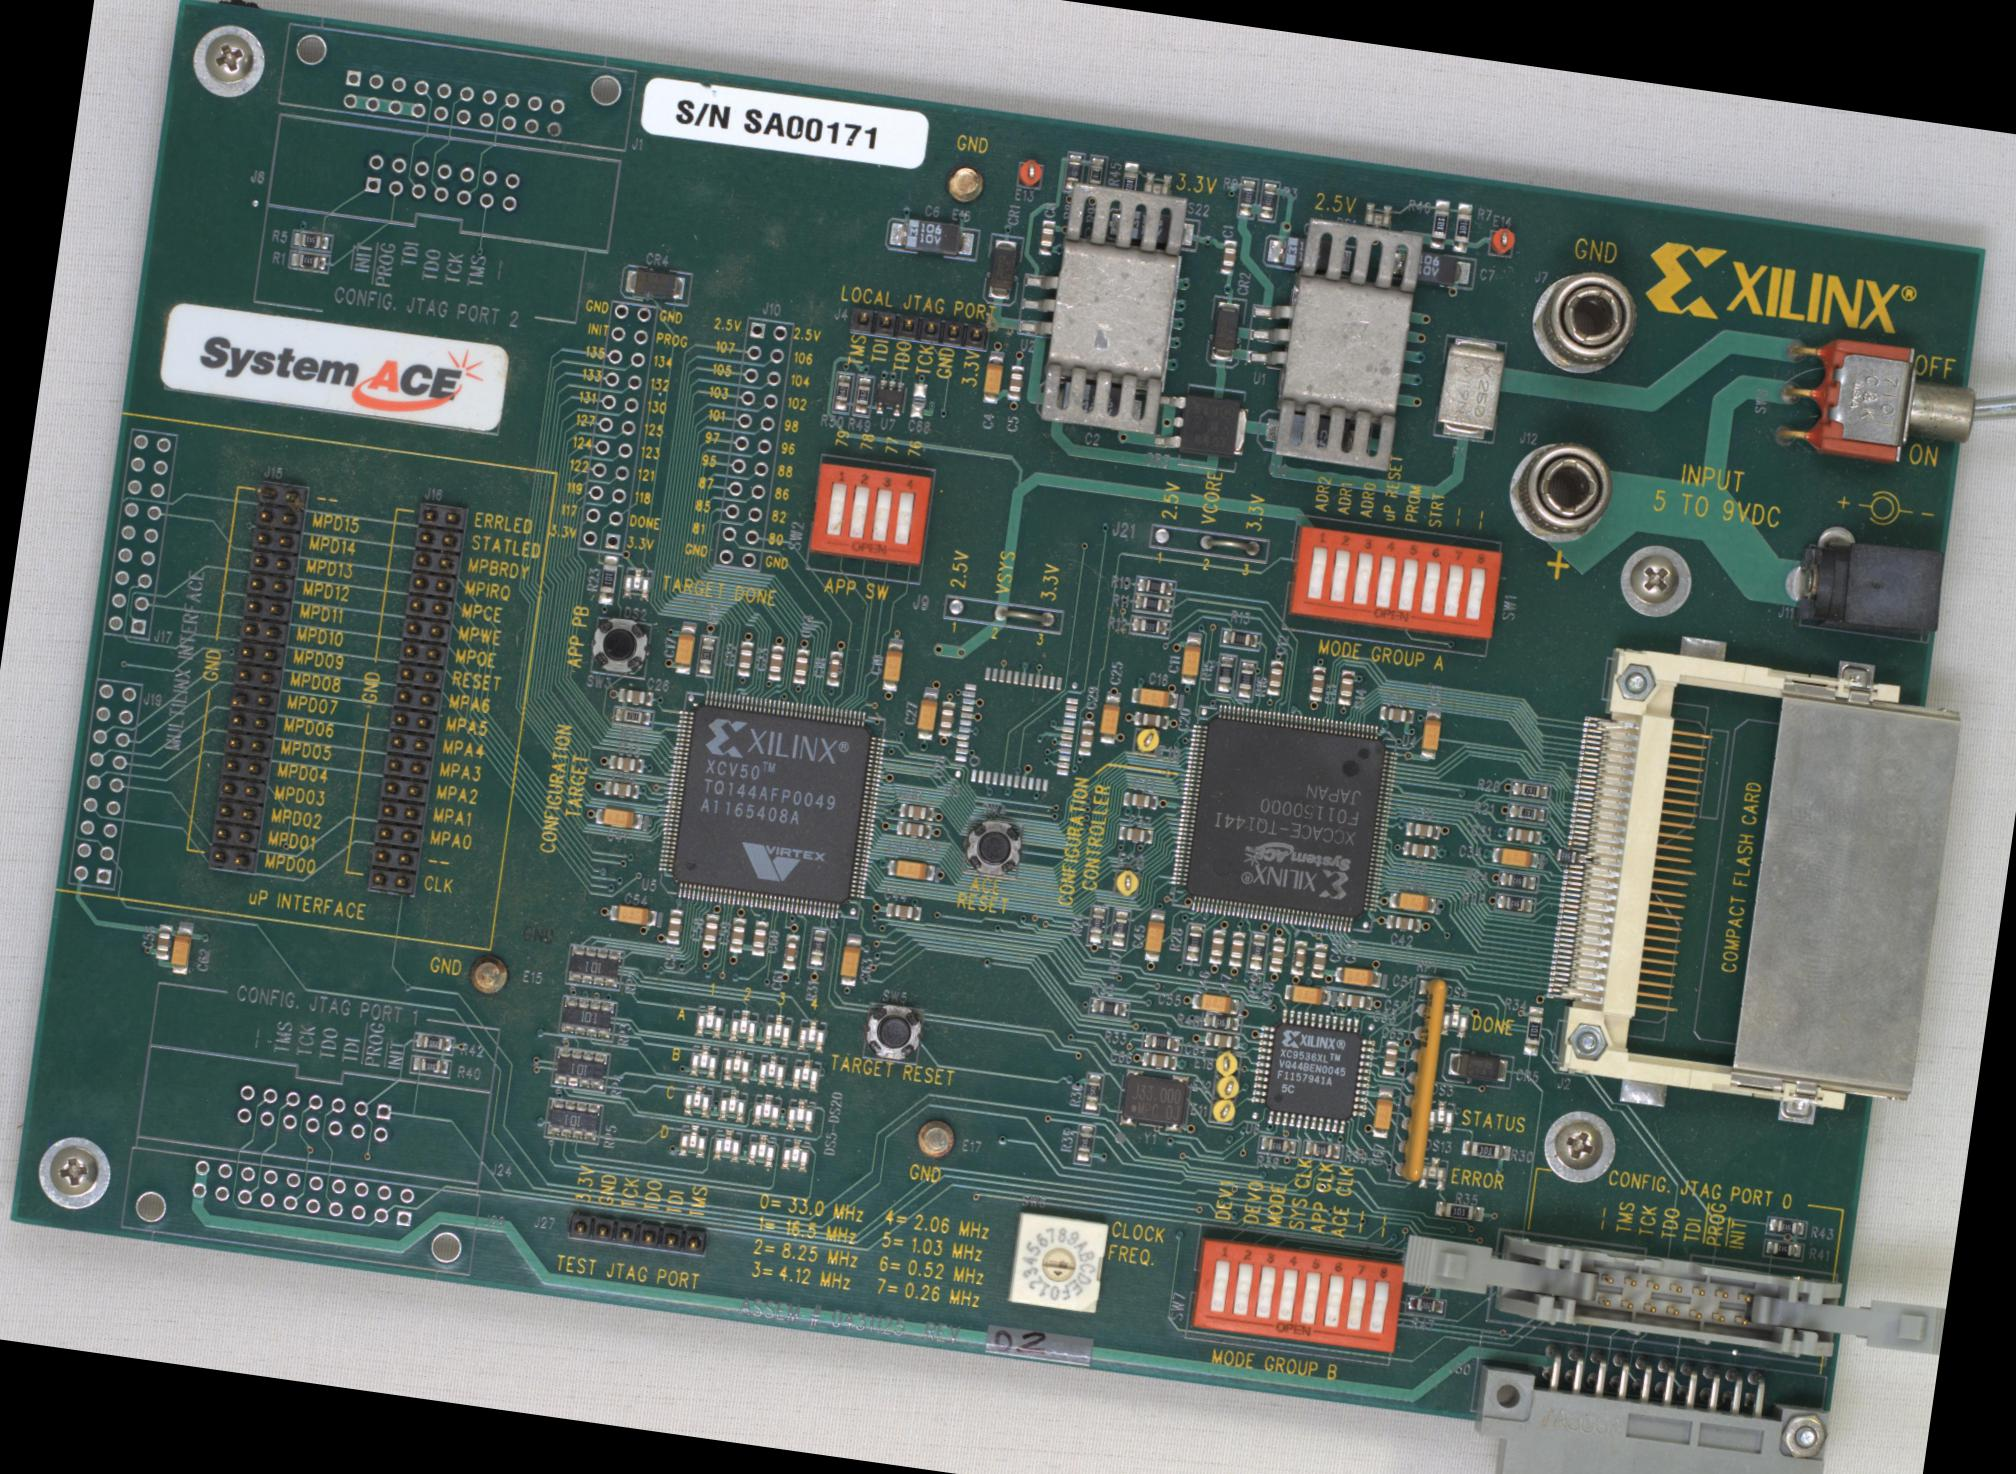Button: (587, 613, 653, 679), (859, 998, 925, 1064), (961, 817, 1024, 879)
Capacitor: (1401, 818, 1440, 840), (1399, 839, 1437, 861), (1202, 1030, 1240, 1052), (734, 640, 754, 679), (934, 698, 955, 737), (1075, 717, 1096, 756), (1305, 665, 1326, 703), (1132, 709, 1169, 729), (615, 687, 653, 707), (1116, 823, 1154, 843), (897, 801, 934, 821), (894, 818, 931, 839), (1205, 926, 1226, 964), (883, 900, 920, 920), (153, 923, 174, 961), (1218, 238, 1238, 275), (1036, 219, 1057, 257), (1265, 657, 1283, 696), (765, 643, 784, 682), (790, 646, 809, 685), (1227, 928, 1246, 967), (1288, 937, 1307, 976), (664, 906, 682, 945), (1379, 1037, 1398, 1077), (1138, 1050, 1177, 1069), (606, 753, 642, 773), (1266, 936, 1287, 972), (1335, 668, 1354, 706), (1376, 704, 1413, 723), (823, 648, 842, 685), (1504, 825, 1542, 843), (1121, 790, 1158, 809), (1309, 940, 1327, 978), (1335, 990, 1373, 1009), (700, 912, 718, 950), (726, 915, 745, 953), (750, 919, 769, 956), (779, 933, 798, 970), (603, 779, 639, 798), (1385, 914, 1421, 933), (1005, 365, 1024, 401)
Clock: (1118, 1067, 1188, 1133)
Connector: (1537, 615, 1983, 1138), (1396, 1214, 1947, 1379), (1463, 1328, 1839, 1472), (202, 479, 307, 872), (362, 502, 466, 895), (1791, 529, 1949, 648), (714, 319, 789, 568), (579, 300, 653, 551), (337, 67, 568, 139), (185, 1158, 413, 1230), (1521, 260, 1642, 379), (103, 430, 172, 637), (1499, 430, 1617, 549), (70, 682, 138, 886), (355, 144, 524, 214), (232, 1080, 396, 1142), (565, 1210, 707, 1256), (847, 305, 989, 352)
Electrolytic Capacitor: (1254, 407, 1373, 465), (1033, 377, 1143, 430), (1260, 232, 1352, 279), (886, 214, 977, 257), (1387, 247, 1476, 289), (615, 261, 692, 307), (1108, 207, 1196, 246), (980, 228, 1024, 307), (1443, 1048, 1509, 1088), (1208, 300, 1241, 363), (836, 931, 862, 987), (671, 618, 697, 676), (914, 684, 939, 742), (1179, 632, 1204, 688), (1097, 688, 1121, 745), (980, 349, 1003, 405), (1418, 704, 1442, 759), (880, 637, 903, 692), (167, 925, 193, 975), (1387, 889, 1435, 914), (1370, 1088, 1393, 1139), (592, 806, 642, 829), (884, 857, 934, 881), (1141, 912, 1165, 962), (1490, 845, 1539, 868), (1332, 964, 1381, 987), (607, 903, 656, 926), (1191, 990, 1238, 1014), (1129, 687, 1177, 709), (1282, 984, 1330, 1006)
IC: (653, 685, 889, 925), (1166, 699, 1399, 936), (1243, 269, 1437, 419), (1014, 233, 1194, 383), (952, 662, 1083, 793), (1246, 1005, 1377, 1136), (1431, 332, 1507, 446), (872, 379, 905, 416), (1141, 169, 1171, 196)
Jumper: (1191, 527, 1269, 562), (989, 599, 1061, 632)
Led: (620, 563, 653, 601), (692, 1003, 725, 1039), (787, 1056, 820, 1092), (720, 1047, 753, 1083), (715, 1088, 748, 1123), (681, 1083, 714, 1119), (743, 1133, 776, 1169), (778, 1138, 811, 1174), (1438, 1001, 1470, 1037), (728, 1008, 759, 1044), (761, 1012, 792, 1048), (795, 1017, 826, 1053), (687, 1042, 718, 1078), (754, 1052, 786, 1088), (750, 1092, 781, 1128), (783, 1097, 814, 1133), (676, 1123, 707, 1159), (711, 1128, 742, 1164), (1426, 1098, 1454, 1136), (1420, 1156, 1448, 1191), (1362, 202, 1391, 230)
Pads: (939, 593, 969, 620), (1146, 523, 1174, 549), (909, 380, 928, 418)
Potentiometer: (1005, 1210, 1110, 1313)
Resistor Jumper: (565, 944, 623, 989), (551, 1045, 607, 1091), (543, 1097, 599, 1142), (557, 995, 615, 1039)
Resistor Network: (595, 552, 618, 607), (1449, 200, 1473, 253), (1521, 1003, 1543, 1056), (1459, 1139, 1510, 1161), (1427, 199, 1449, 250), (1432, 1200, 1482, 1222), (1258, 1134, 1302, 1158), (1133, 576, 1172, 598), (1132, 591, 1171, 613), (1129, 615, 1168, 635), (1183, 923, 1204, 962), (1201, 1011, 1240, 1031), (1404, 1294, 1443, 1314), (291, 230, 330, 250), (1235, 659, 1254, 699), (1143, 1033, 1180, 1053), (1302, 1139, 1340, 1159), (1767, 1216, 1805, 1236), (410, 1055, 448, 1075), (1215, 654, 1233, 693), (1509, 781, 1548, 800), (1506, 803, 1545, 821), (1496, 870, 1535, 889), (1088, 904, 1107, 944), (1246, 931, 1265, 970), (1088, 998, 1127, 1017), (1074, 1123, 1093, 1163), (1063, 152, 1082, 191), (1237, 177, 1255, 216), (288, 252, 327, 271), (1218, 629, 1255, 648), (614, 707, 651, 726), (1495, 892, 1532, 911), (808, 928, 826, 965), (413, 1033, 451, 1052), (1762, 1239, 1800, 1258), (1110, 908, 1127, 947), (697, 637, 714, 674), (1083, 1073, 1100, 1111), (1258, 182, 1276, 219), (833, 372, 850, 410), (853, 376, 870, 413), (1119, 160, 1138, 191), (1086, 156, 1102, 185), (1554, 847, 1576, 862)
Switch: (1769, 329, 2014, 484), (1285, 521, 1504, 642), (1186, 1235, 1406, 1355), (806, 460, 933, 568)
Test Point: (465, 951, 510, 997), (942, 161, 986, 203), (914, 1117, 956, 1159), (1485, 225, 1517, 258), (1111, 867, 1141, 897), (1213, 1048, 1241, 1077), (1132, 726, 1158, 754), (1207, 1098, 1235, 1125), (1210, 1075, 1240, 1100), (1016, 158, 1041, 188)
Transistor: (1152, 388, 1249, 458)
Unknown Unlabeled: (1387, 973, 1448, 1183)
